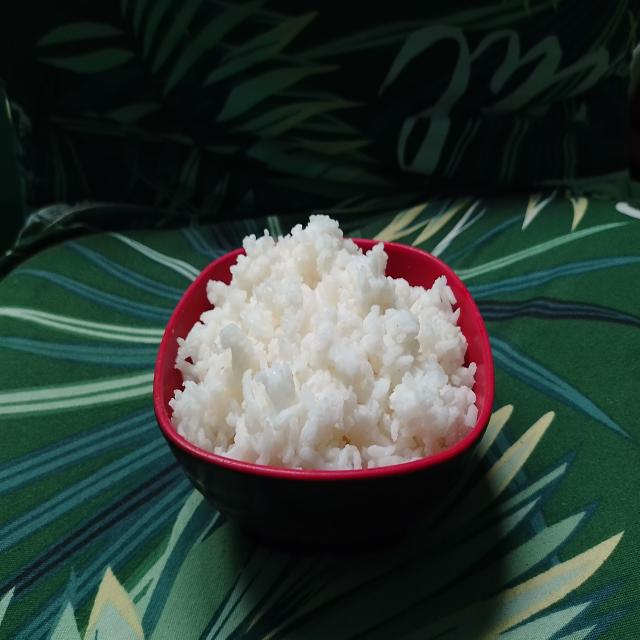Chicken -Chicken Inasal-: (162, 205, 478, 473)
